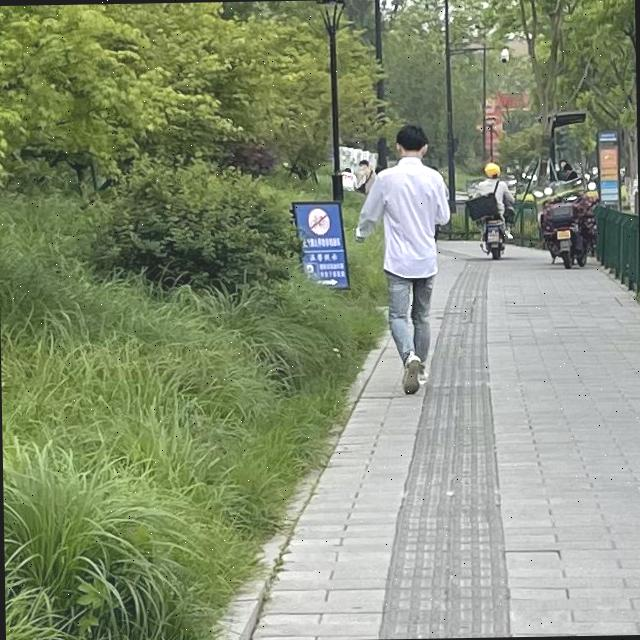curb: (217, 337, 388, 640)
